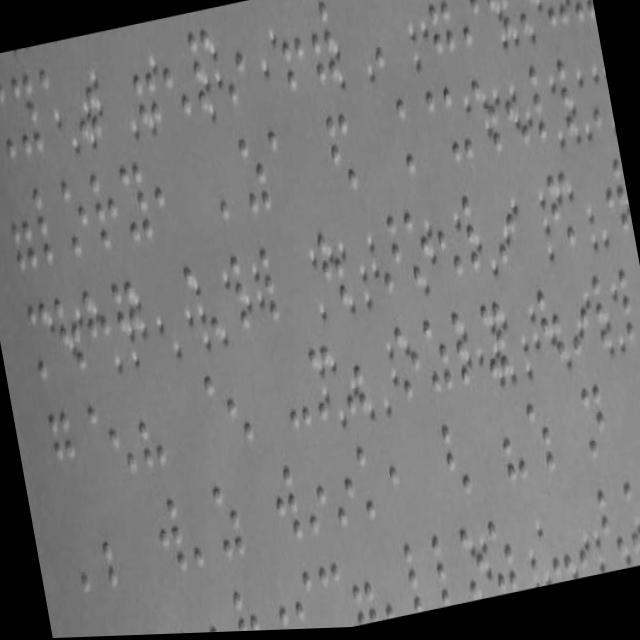braiile: (231, 131, 273, 223), (113, 159, 154, 247), (213, 20, 252, 112), (6, 68, 44, 159), (350, 442, 390, 528), (84, 170, 123, 257), (392, 97, 432, 181), (208, 480, 246, 568), (28, 181, 66, 269), (256, 245, 296, 327), (95, 508, 134, 592), (321, 449, 360, 533), (217, 366, 256, 450), (150, 495, 188, 581), (266, 462, 304, 548), (272, 11, 310, 97), (56, 175, 94, 260), (359, 0, 400, 78), (492, 410, 530, 494), (295, 453, 331, 541), (2, 185, 38, 271), (154, 38, 190, 124), (100, 398, 138, 479), (130, 393, 168, 473), (398, 210, 436, 290), (437, 422, 474, 504), (124, 46, 161, 128), (523, 63, 559, 147), (418, 316, 454, 398), (206, 144, 242, 226), (438, 83, 473, 167), (68, 517, 103, 599), (179, 491, 213, 574), (278, 359, 314, 437), (430, 200, 464, 282), (596, 161, 630, 240), (611, 263, 640, 349), (448, 0, 485, 53), (503, 0, 541, 41), (533, 0, 569, 35), (559, 0, 596, 32)
